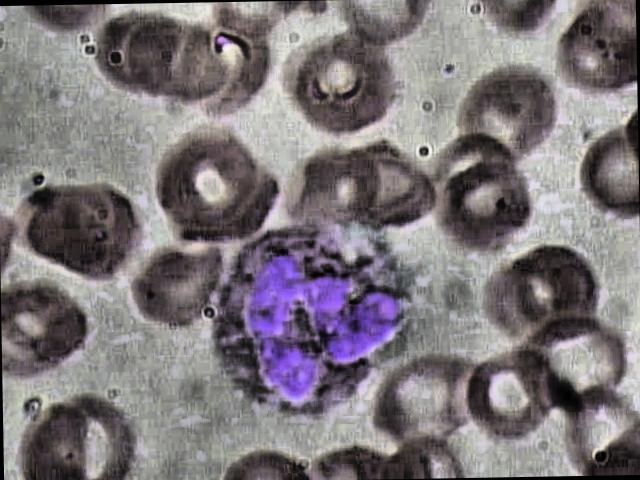RBC: (7, 176, 146, 284), (152, 125, 270, 237), (284, 40, 396, 142), (367, 353, 480, 452), (13, 392, 139, 480), (434, 164, 538, 262), (459, 68, 562, 166), (463, 350, 564, 446), (128, 240, 228, 334), (2, 286, 94, 379)
WBC: (196, 206, 417, 426)
